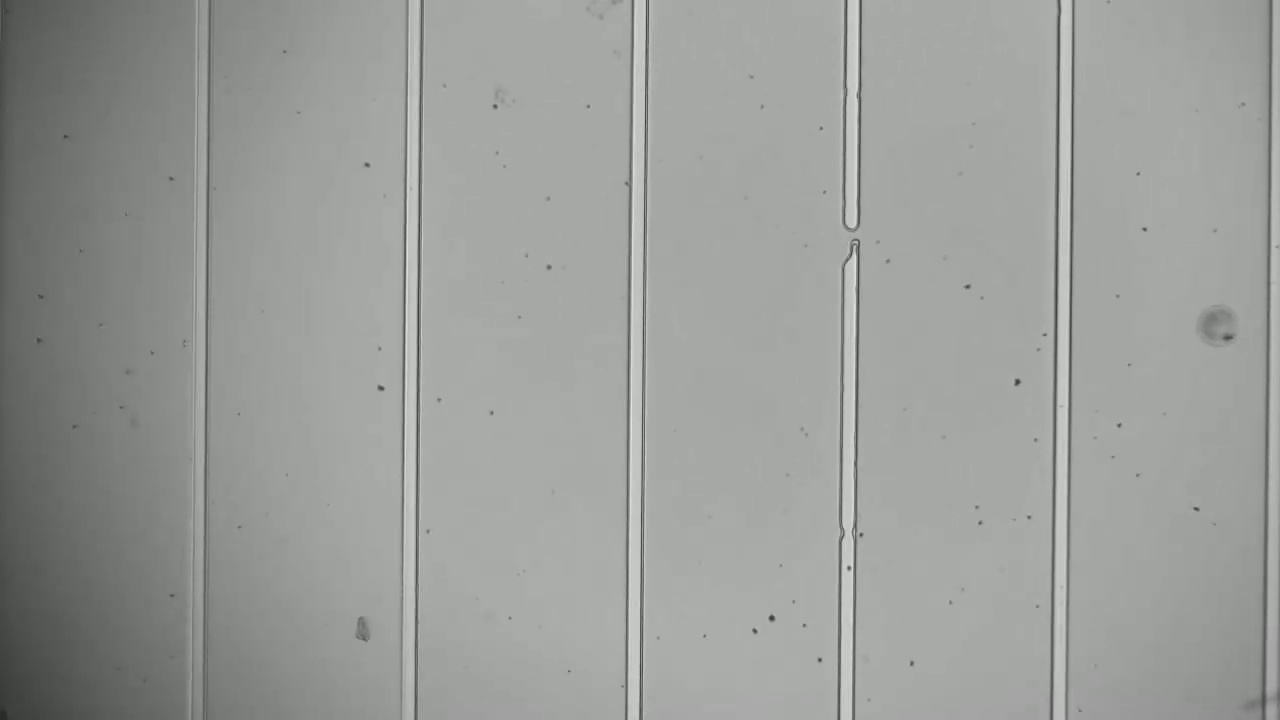edge_bite: (833, 515, 862, 554)
open: (831, 209, 868, 278)
